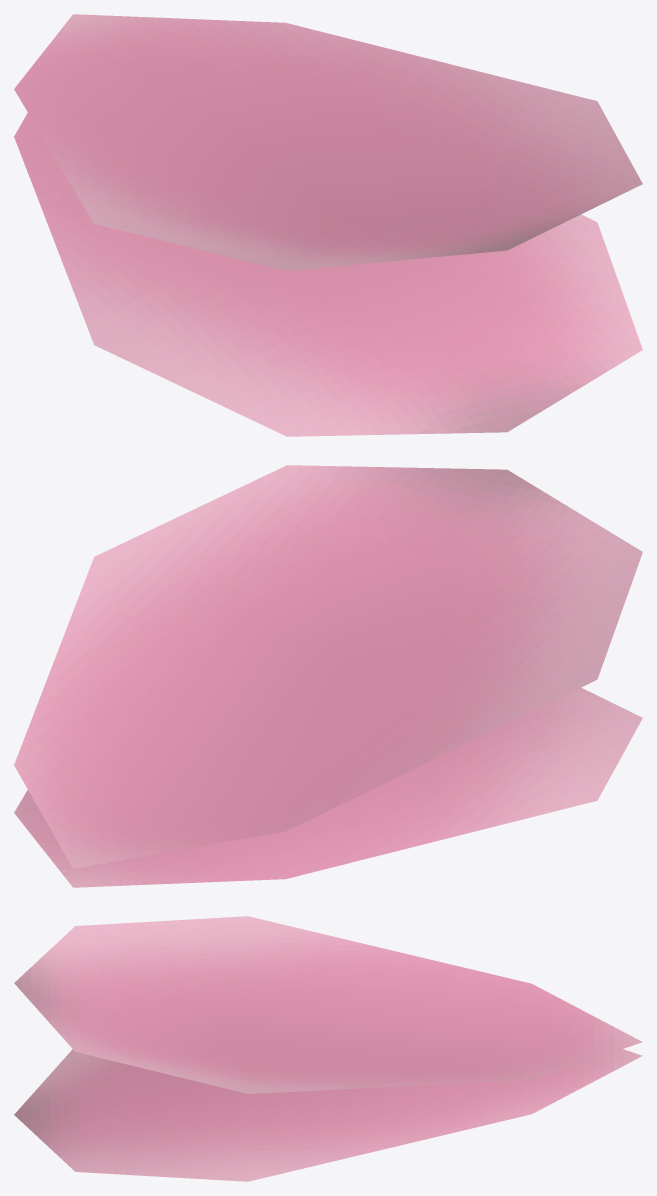
Rendered from SAKURA00.glb.
3 views of the same model, one above another, from view 1: azimuth 30°, elevation 25°; view 2: azimuth 150°, elevation 25°; view 3: azimuth 270°, elevation 25° (orthographic). The views are drawn at different scales.
Parts seen in each view (by area): view 1: obj5, obj4; view 2: obj5, obj4; view 3: obj5, obj4.
Part boxes in pixels (x1=…): obj5: x1=14, y1=14, x2=642, y2=270; obj4: x1=14, y1=113, x2=642, y2=436; obj5: x1=14, y1=465, x2=642, y2=868; obj4: x1=14, y1=687, x2=642, y2=887; obj5: x1=14, y1=916, x2=642, y2=1093; obj4: x1=14, y1=1049, x2=642, y2=1181.
Bounding box in the file's own units: 0.7654 × 0.2642 × 1.14.
2 materials, 2 textured.
